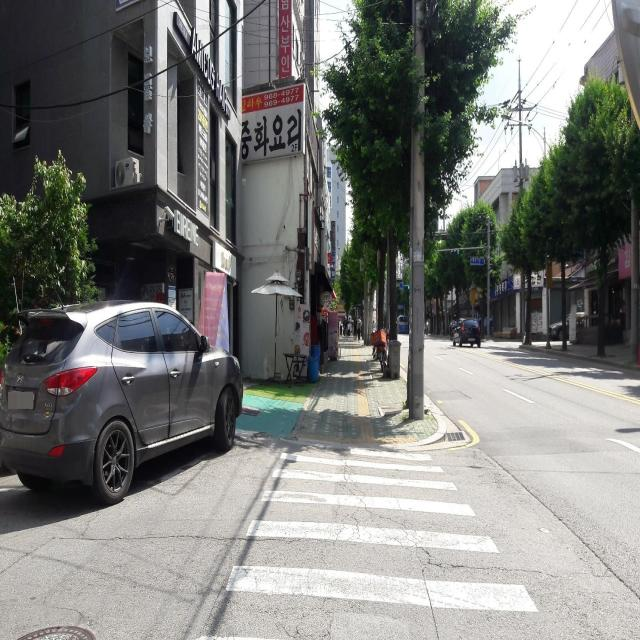횡단보도: (189, 443, 541, 640)
